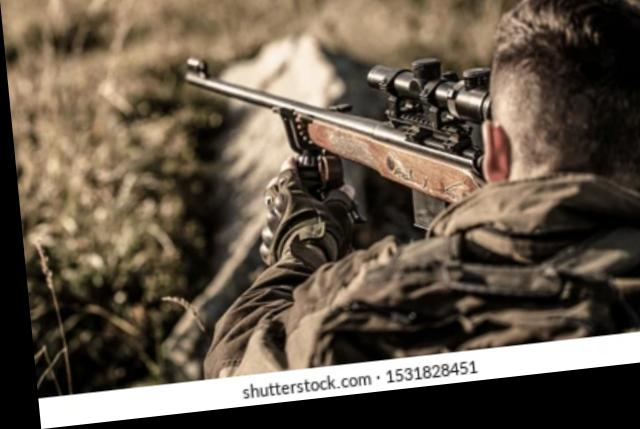other: (360, 0, 640, 362)
